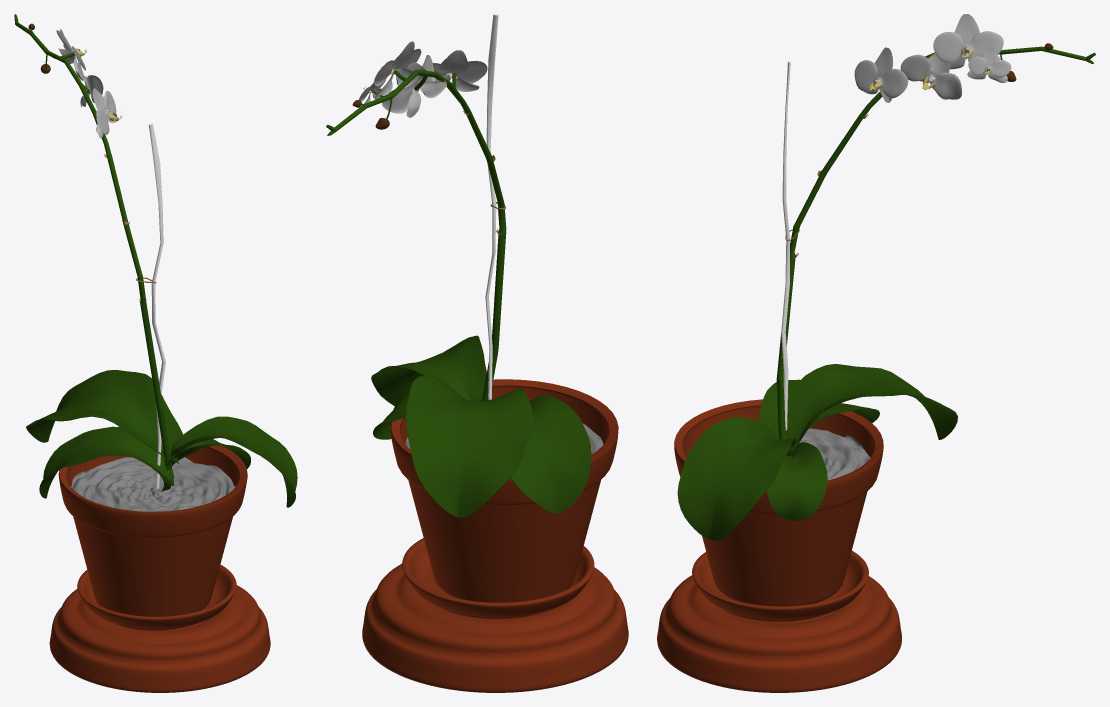
The model's file is Orchid_fbx.FBX.
3 renders of one model, left to right at view 1: azimuth 30°, elevation 25°; view 2: azimuth 150°, elevation 25°; view 3: azimuth 270°, elevation 25°, orthographic. The views are drawn at different scales.
Visible parts, largest first — view 1: Line015, Line013, Plane002, Cylinder008, Plane004, Line008, v1_v003, Orchid, Cylinder001, Plane003; view 2: Line013, Line015, Plane002, Plane004, Line008, Orchid, v1_v003, Cylinder001, Plane003; view 3: Line013, Line015, Plane002, Orchid, Line008, Plane003, v1_v003, Cylinder008, Cylinder001, Plane004.
Part boxes in pixels (bbox=[...]): Line015: bbox=[58, 445, 247, 616]; Line013: bbox=[49, 585, 270, 692]; Plane002: bbox=[26, 370, 297, 507]; Cylinder008: bbox=[71, 457, 235, 511]; Plane004: bbox=[39, 426, 173, 498]; Line008: bbox=[77, 564, 236, 631]; v1_v003: bbox=[14, 14, 174, 485]; Orchid: bbox=[56, 29, 121, 138]; Cylinder001: bbox=[148, 123, 165, 489]; Plane003: bbox=[166, 439, 250, 470]; Line013: bbox=[362, 564, 628, 692]; Line015: bbox=[390, 379, 618, 602]; Plane002: bbox=[371, 335, 533, 517]; Plane004: bbox=[510, 395, 591, 513]; Line008: bbox=[402, 538, 594, 618]; Orchid: bbox=[359, 41, 487, 117]; v1_v003: bbox=[326, 70, 506, 400]; Cylinder001: bbox=[485, 14, 498, 399]; Plane003: bbox=[373, 388, 410, 439]; Line013: bbox=[657, 575, 901, 692]; Line015: bbox=[674, 399, 883, 606]; Plane002: bbox=[677, 364, 957, 540]; Orchid: bbox=[854, 14, 1011, 102]; Line008: bbox=[692, 550, 868, 623]; Plane003: bbox=[767, 442, 827, 520]; v1_v003: bbox=[776, 46, 1095, 439]; Cylinder008: bbox=[799, 428, 870, 480]; Cylinder001: bbox=[781, 60, 790, 430]; Plane004: bbox=[758, 379, 879, 439].
Size of the model in its own units: 7.19 by 17.81 by 11.4.
